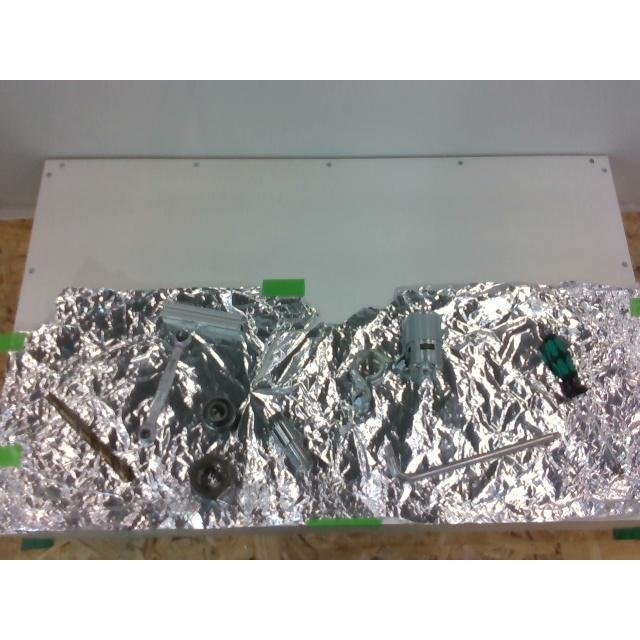AllenKey: (397, 432, 561, 482)
Axis2: (265, 412, 317, 478)
Bearing2: (202, 393, 238, 435)
Drill: (45, 393, 135, 482)
F20_20_G: (161, 301, 245, 343)
Housing: (339, 348, 405, 419)
M30: (188, 451, 238, 499)
Motor2: (401, 302, 441, 382)
Screwdriver: (540, 327, 624, 478)
Wrench: (140, 334, 192, 444)
